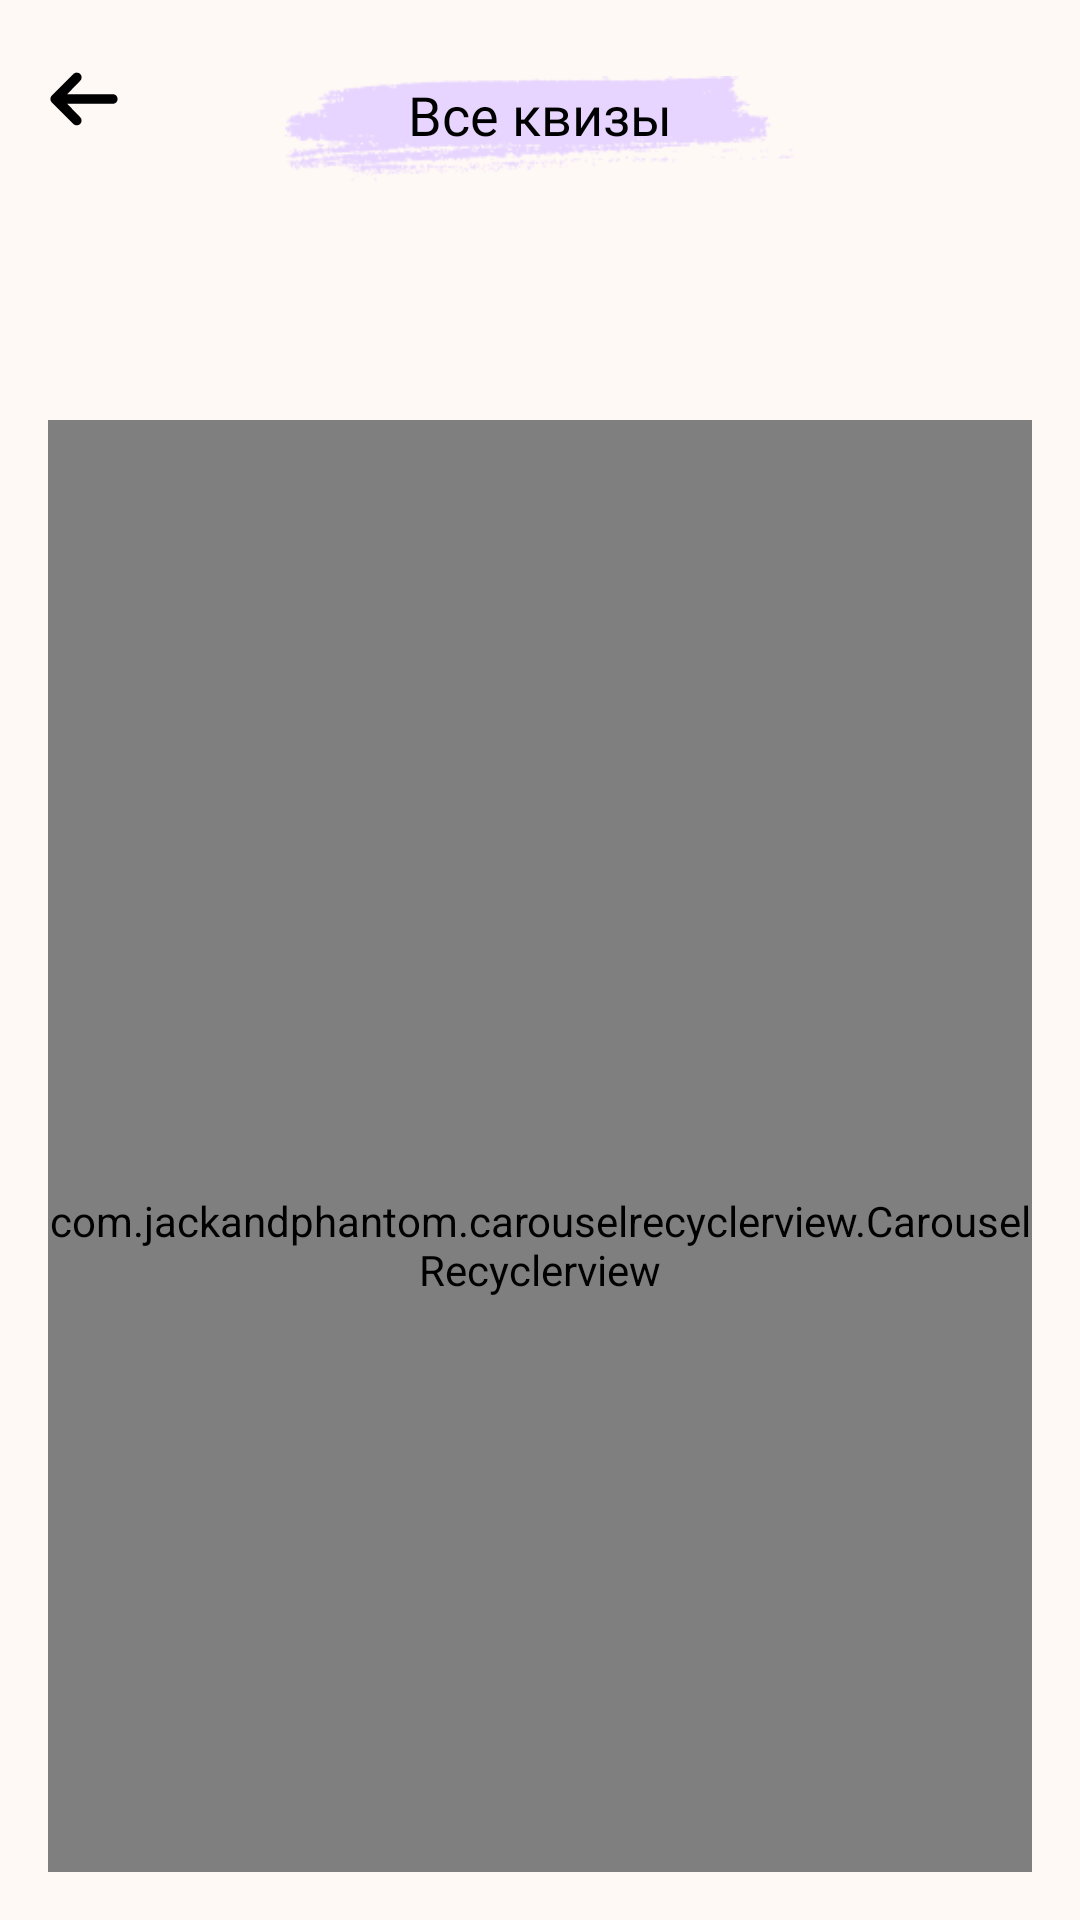

Icon click points for this 1080px x 1920px phone screenshot, format [x,y]:
maki arrow: [84,99]
